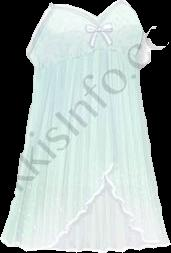Bodice: (2, 0, 170, 251)
Neckline: (24, 0, 147, 51), (33, 48, 140, 73)
Waistline: (3, 166, 169, 248), (0, 235, 170, 252)
